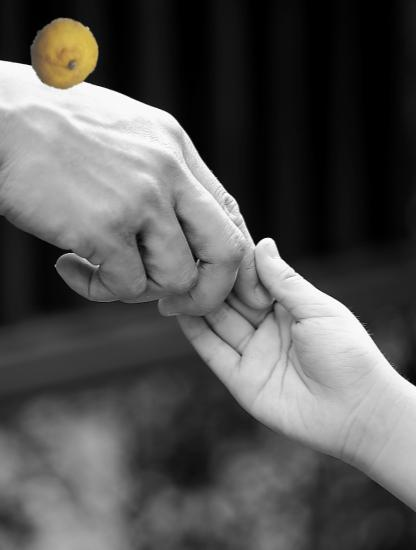Lemon: (27, 17, 100, 90)
